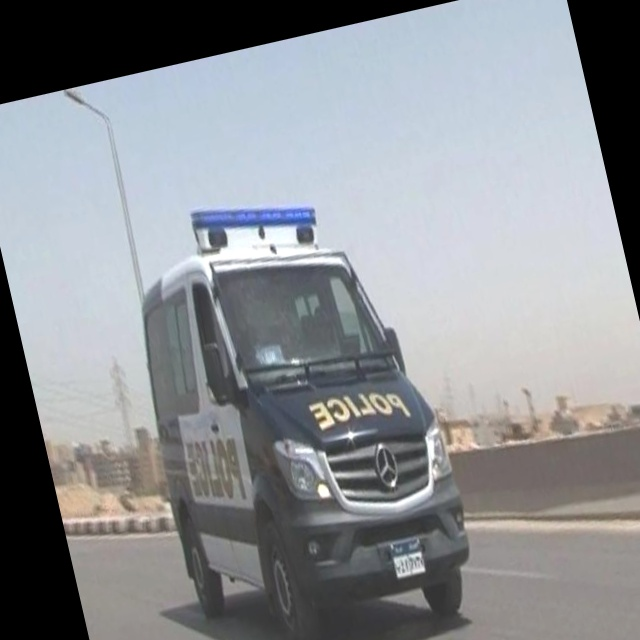police-car: (107, 165, 489, 640)
